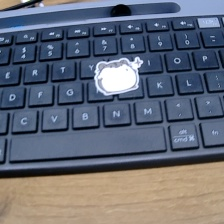mouse: (91, 55, 147, 101)
